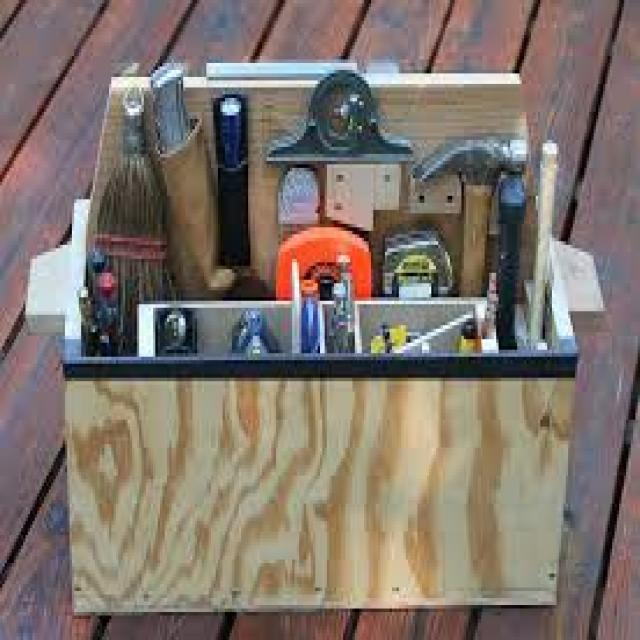tool_box: (19, 22, 617, 636)
